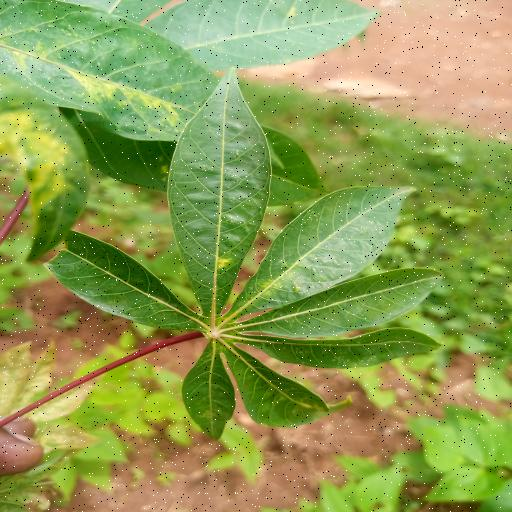Cassava_Mosaic: (42, 60, 438, 438)
